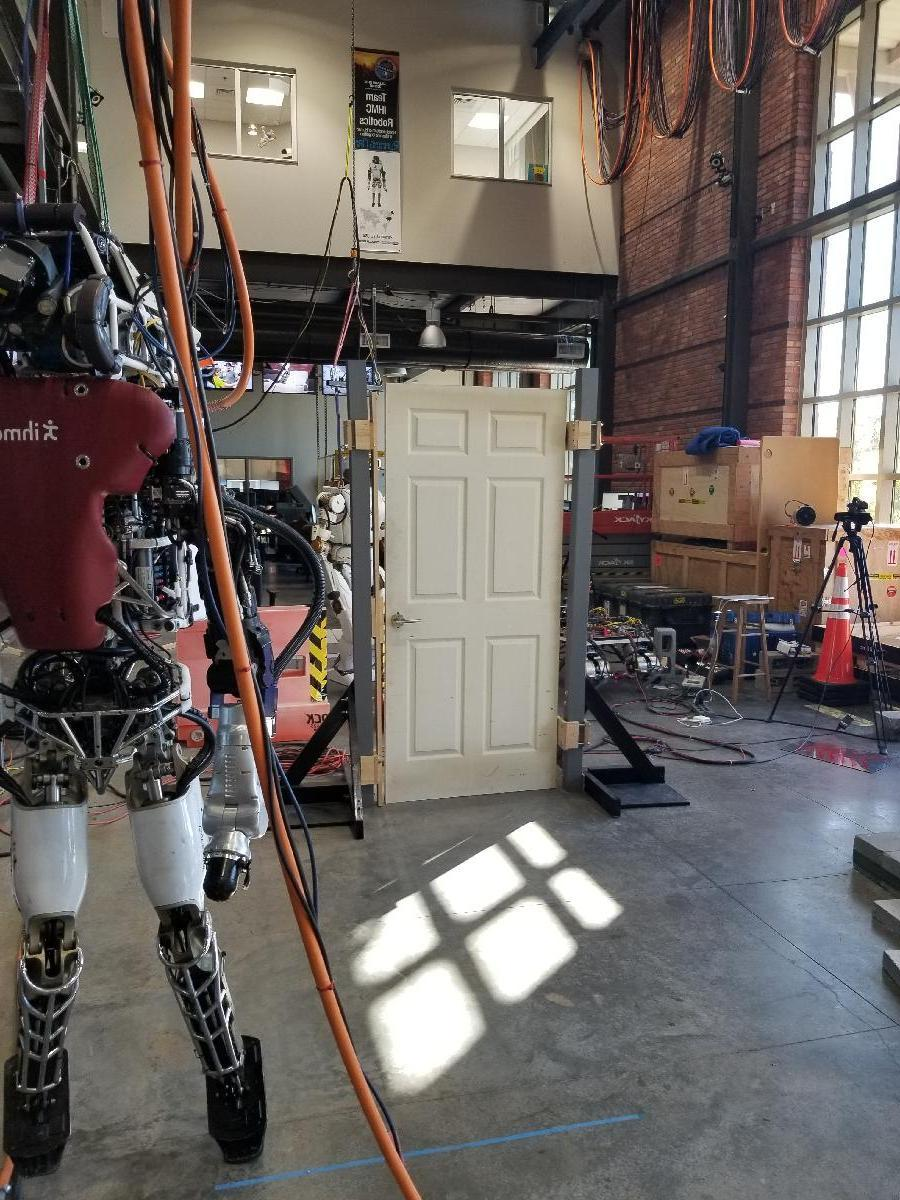door: (370, 388, 574, 801)
handle: (390, 612, 422, 629)
